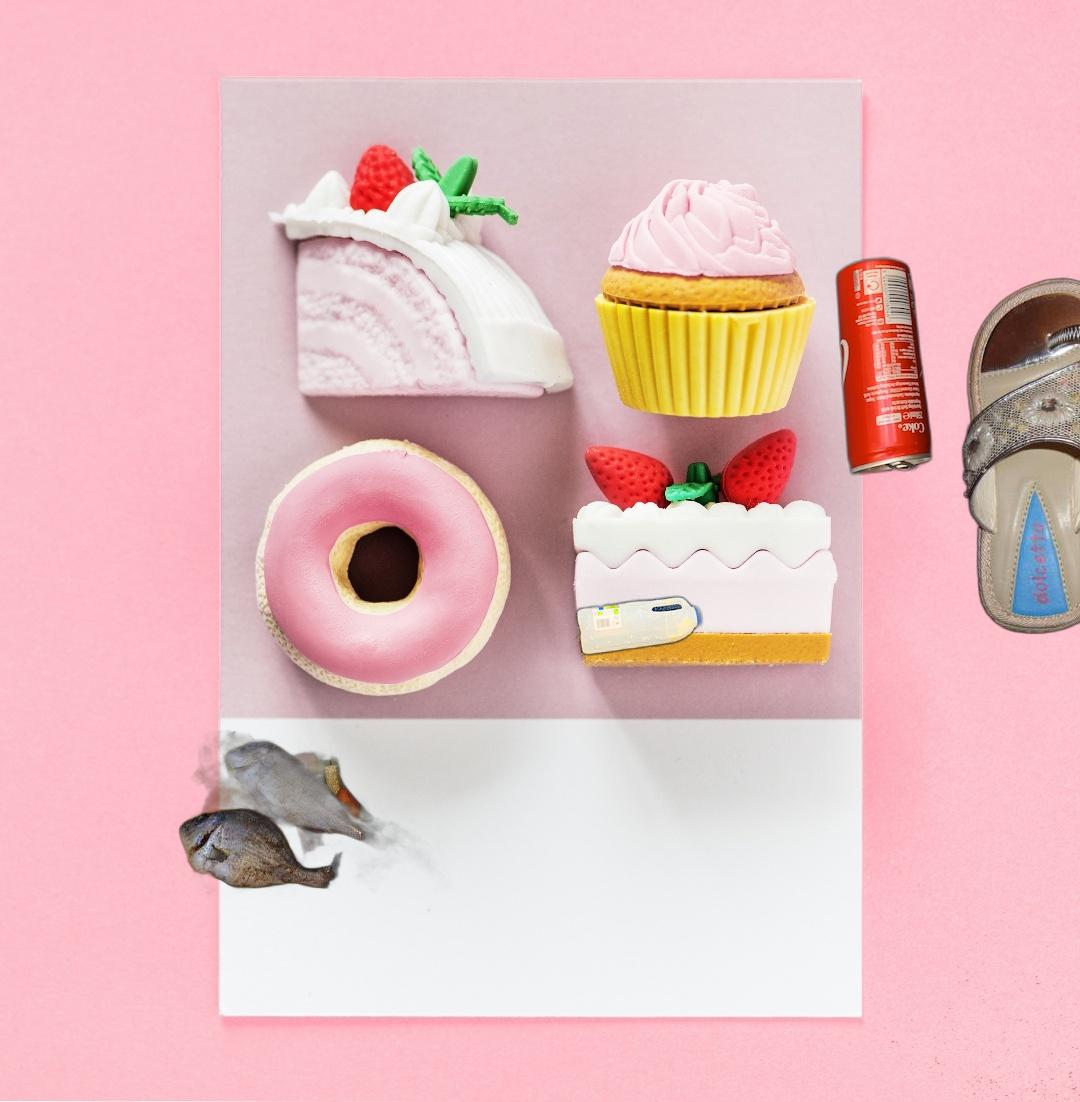biological: (169, 730, 456, 898)
clothes: (958, 275, 1080, 643)
metal-cans: (831, 252, 936, 481)
plastic-bottles: (571, 590, 706, 662)
